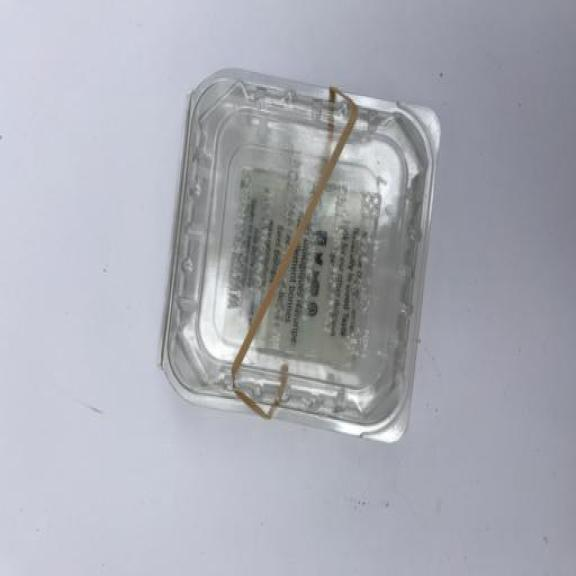Plastik: (156, 58, 443, 448)
